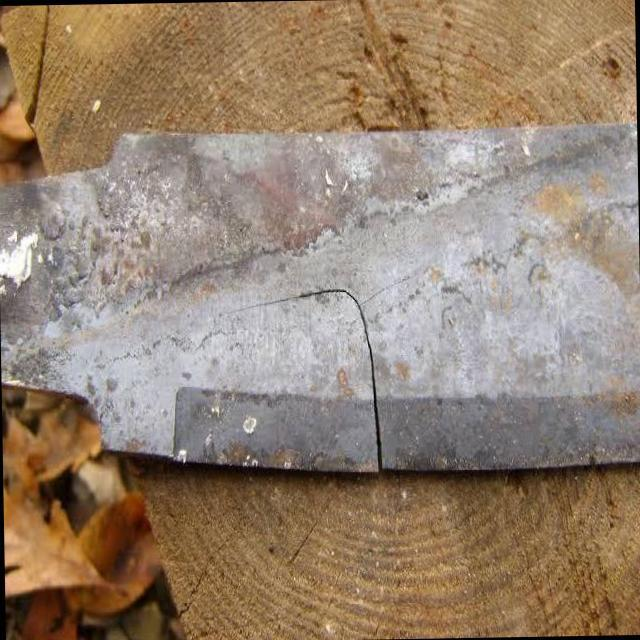defect: (226, 283, 383, 469)
